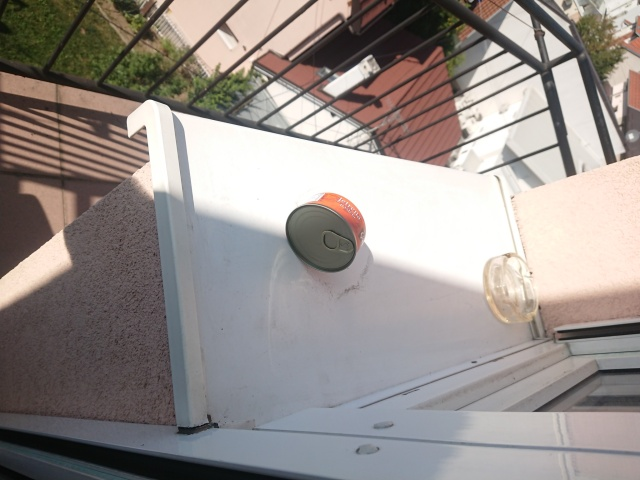Gavrilovic Pork Liver Pate 100g: (283, 190, 368, 275)
